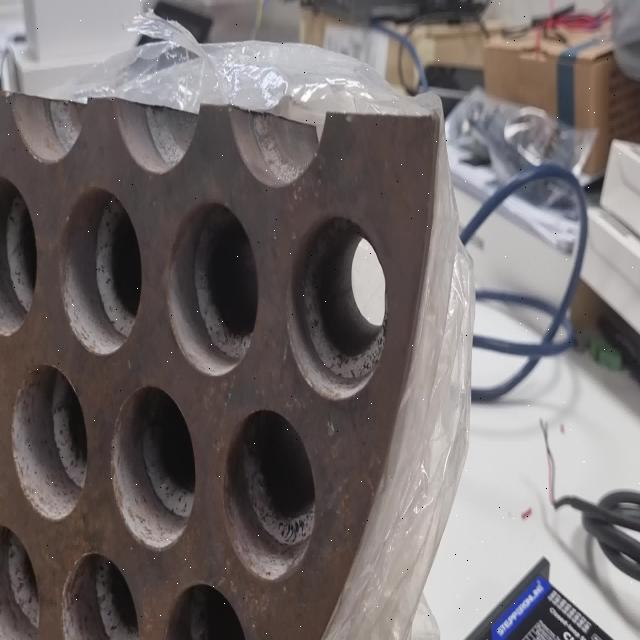Hole: (289, 212, 388, 400), (165, 201, 259, 376), (224, 410, 316, 582), (110, 385, 196, 551), (59, 186, 142, 356), (10, 364, 88, 522), (60, 550, 140, 640), (0, 178, 38, 338), (166, 580, 250, 640), (0, 524, 40, 640)
